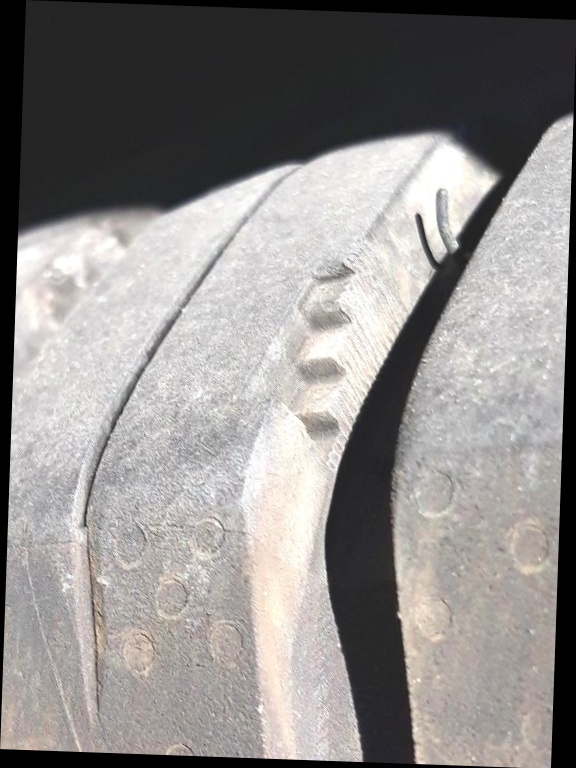temoin:80: (226, 229, 420, 490)
